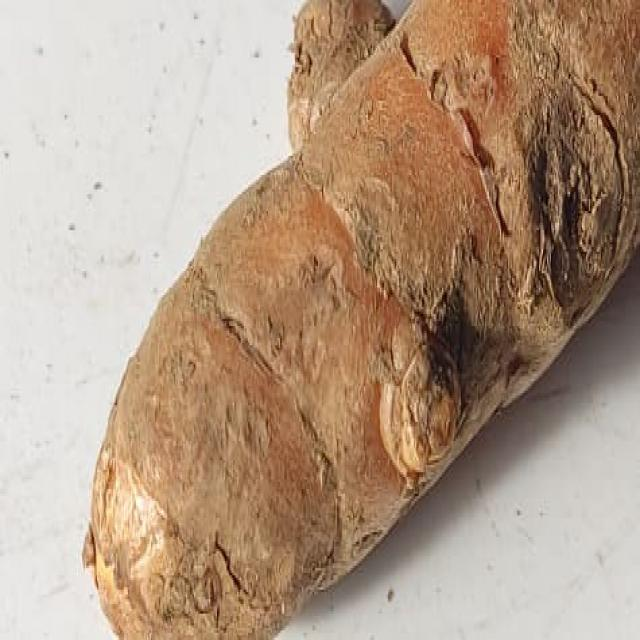ginger: (96, 52, 634, 630)
